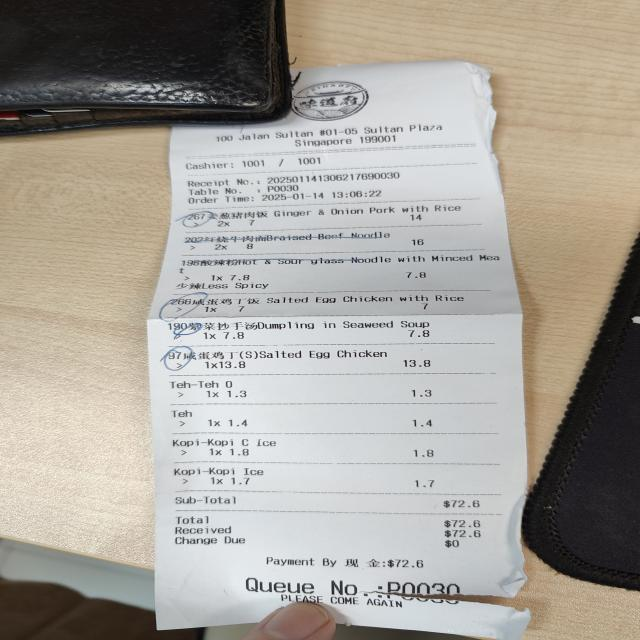bill_region: (163, 201, 511, 553)
